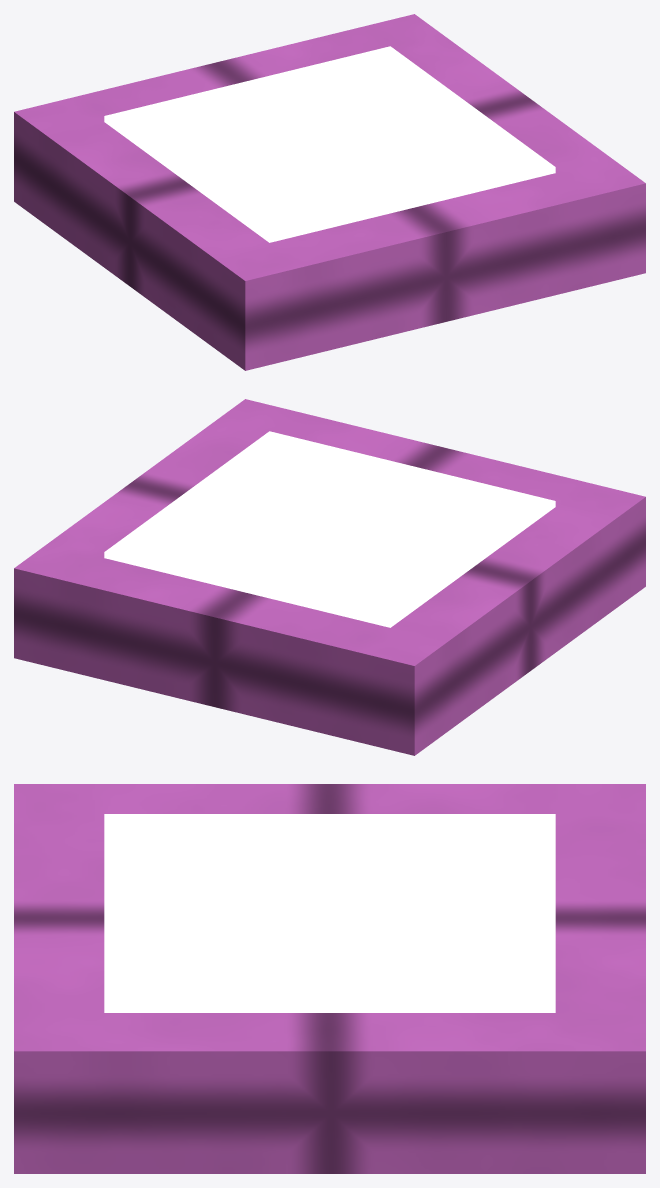
The model's file is tile_star.glb.
3 views of the same model, one above another, from view 1: azimuth 30°, elevation 25°; view 2: azimuth 150°, elevation 25°; view 3: azimuth 270°, elevation 25° (orthographic). The views are drawn at different scales.
Visible parts, largest first — view 1: tile_star; view 2: tile_star; view 3: tile_star.
Part boxes in pixels (<box>): tile_star: <box>14,14,645,370</box>; tile_star: <box>14,399,645,755</box>; tile_star: <box>14,784,645,1173</box>.
Size of the model in its own units: 1.4 by 0.32 by 1.4.
Materials: 2 (1 with a texture image).
